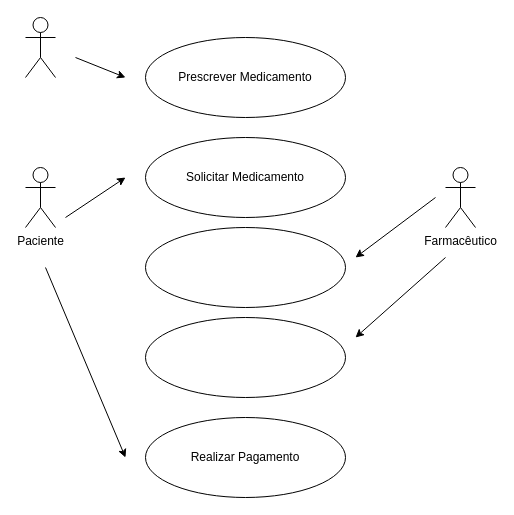
Image size: 514x515. Some labels were removed from this diagram. Here are the shapes that lost their labels. From the top down, the centre of each, then its label:
At pixel 40 47: "Médico".
At pixel 245 267: "Conferir Estoque".
At pixel 245 357: "Entregar Medicamento".
